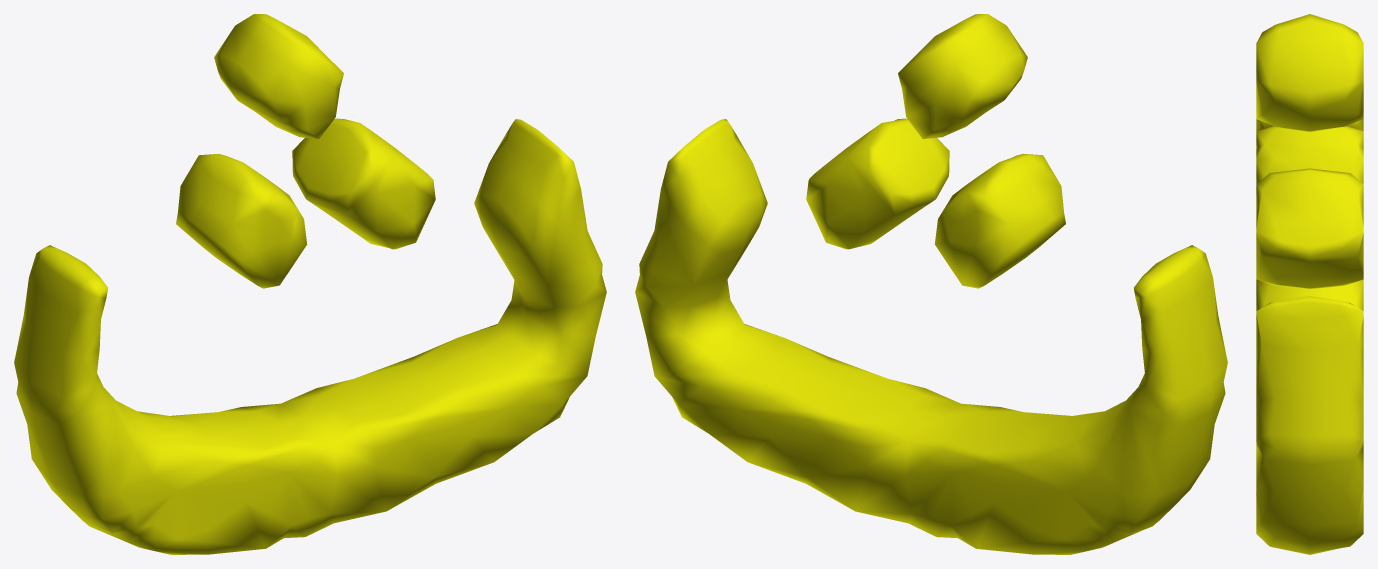
3 renders of one model, left to right at view 1: azimuth 30°, elevation 25°; view 2: azimuth 150°, elevation 25°; view 3: azimuth 270°, elevation 25°, orthographic. The views are drawn at different scales.
Visible parts, largest first — view 1: char_1; view 2: char_1; view 3: char_1.
Boxes of the visible parts, x1=… form: char_1: x1=14, y1=14, x2=606, y2=554; char_1: x1=635, y1=14, x2=1227, y2=554; char_1: x1=1256, y1=14, x2=1363, y2=554.
Bounding box in the file's own units: 5.56 × 4.85 × 1.
